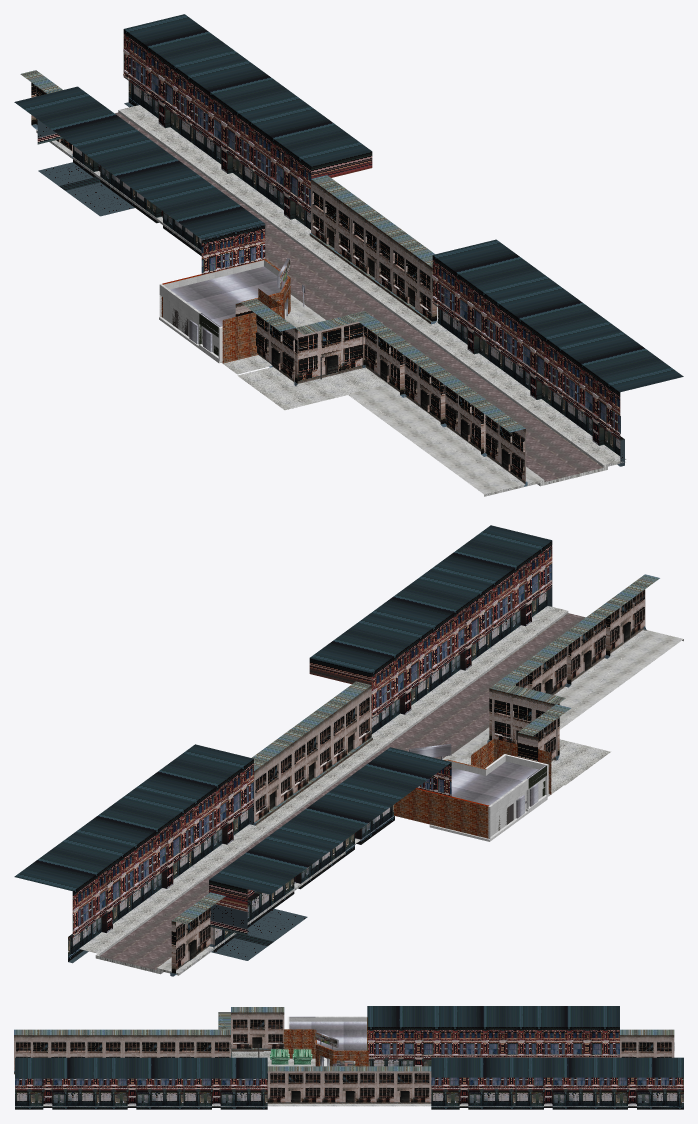
The model's file is fishies_minimart2025.glb.
3 views of the same model, one above another, from view 1: azimuth 30°, elevation 25°; view 2: azimuth 150°, elevation 25°; view 3: azimuth 270°, elevation 25° (orthographic). The views are drawn at different scales.
Parts seen in each view (by area): view 1: sidewalk.002, sidewalk.001, sidewalk.003, sidewalk, road, sidefence, Plane.006, parksing, floor.002, Plane.001, Plane.002, Plane (+8 smaller); view 2: sidewalk.001, sidewalk.002, sidewalk.003, sidewalk, road, sidefence, wall, Plane.001, Plane, Plane.002, Plane.006, Plane.011 (+9 smaller); view 3: sidewalk.003, sidewalk.001, sidewalk.002, Plane.008, Plane, Plane.002, Plane.001, Plane.003, Plane.004, Plane.005, Plane.011, Plane.007 (+11 smaller).
Boxes of the visible parts, bbox=[...] form: sidewalk.002: bbox=[123, 14, 372, 229]; sidewalk.001: bbox=[432, 239, 683, 466]; sidewalk.003: bbox=[14, 86, 265, 274]; sidewalk: bbox=[118, 105, 626, 483]; road: bbox=[115, 112, 603, 481]; sidefence: bbox=[36, 130, 625, 496]; Plane.006: bbox=[294, 313, 373, 385]; parksing: bbox=[237, 367, 388, 410]; floor.002: bbox=[170, 266, 290, 333]; Plane.001: bbox=[350, 204, 407, 294]; Plane.002: bbox=[309, 175, 366, 264]; Plane: bbox=[390, 234, 436, 324]; sidewalk.001: bbox=[309, 525, 552, 734]; sidewalk.002: bbox=[14, 744, 253, 963]; sidewalk.003: bbox=[209, 747, 451, 960]; sidewalk: bbox=[79, 606, 568, 971]; road: bbox=[100, 613, 585, 970]; sidefence: bbox=[95, 629, 683, 975]; wall: bbox=[394, 788, 488, 838]; Plane.001: bbox=[278, 710, 333, 796]; Plane: bbox=[317, 681, 372, 767]; Plane.002: bbox=[252, 738, 294, 825]; Plane.006: bbox=[488, 683, 565, 760]; Plane.011: bbox=[170, 892, 225, 976]; sidewalk.003: bbox=[367, 1006, 619, 1066]; sidewalk.001: bbox=[15, 1057, 267, 1109]; sidewalk.002: bbox=[431, 1057, 683, 1109]; Plane.008: bbox=[231, 1007, 284, 1051]; Plane: bbox=[267, 1066, 322, 1103]; Plane.002: bbox=[376, 1066, 431, 1103]; Plane.001: bbox=[322, 1066, 376, 1103]; Plane.003: bbox=[14, 1029, 68, 1074]; Plane.004: bbox=[68, 1029, 122, 1057]; Plane.005: bbox=[123, 1029, 177, 1057]; Plane.011: bbox=[620, 1029, 674, 1057]; Plane.007: bbox=[177, 1029, 230, 1057].
Size of the model in its own units: 47.62 by 13.07 by 157.
Materials: 62 (59 with a texture image).
